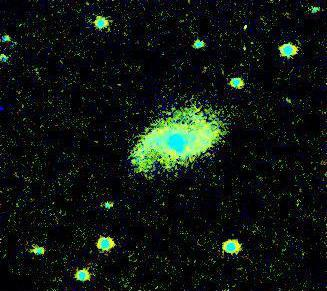star: (246, 21, 276, 51)
